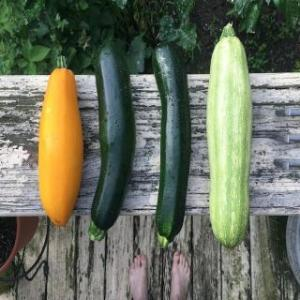zucchini: (149, 36, 203, 246)
